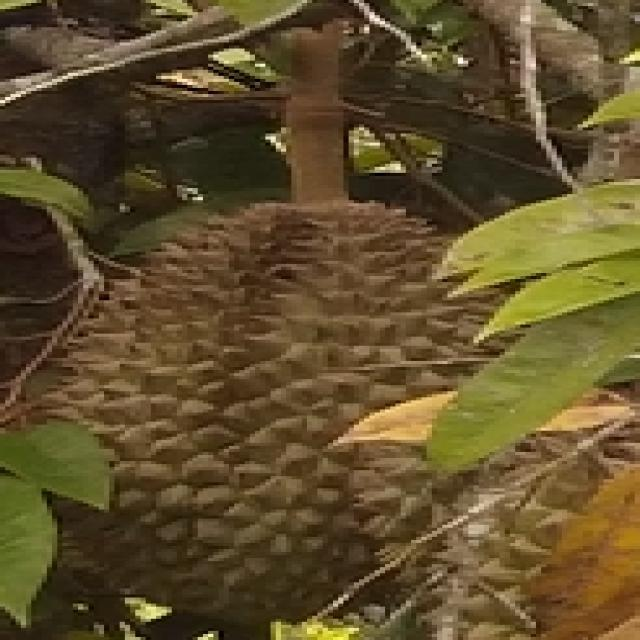mature: (24, 202, 504, 623)
